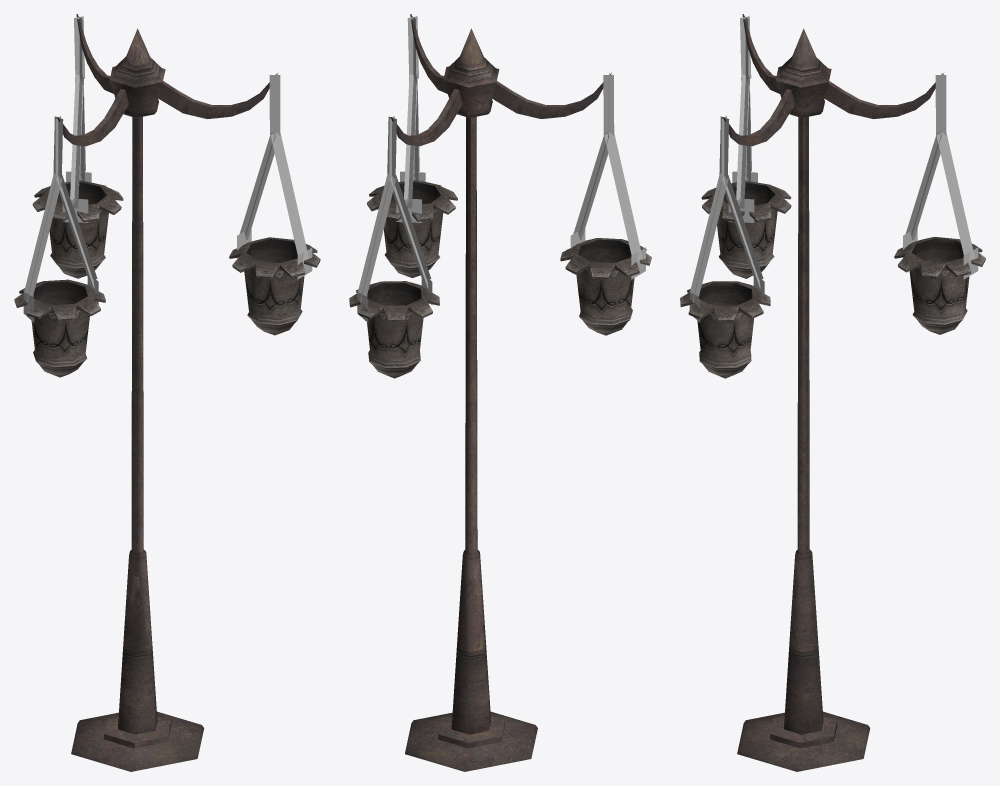
File: Incensary03LOD.fbx
3 views of the same model, side by side, from view 1: azimuth 30°, elevation 25°; view 2: azimuth 150°, elevation 25°; view 3: azimuth 270°, elevation 25° (orthographic).
Visible parts, largest first — view 1: Incensary03LOD; view 2: Incensary03LOD; view 3: Incensary03LOD.
Boxes of the visible parts, x1,y1,x2,y2 form: Incensary03LOD: [14, 14, 320, 771]; Incensary03LOD: [349, 14, 651, 771]; Incensary03LOD: [680, 14, 985, 771].
Size of the model in its own units: 75.25 by 182 by 70.62.
